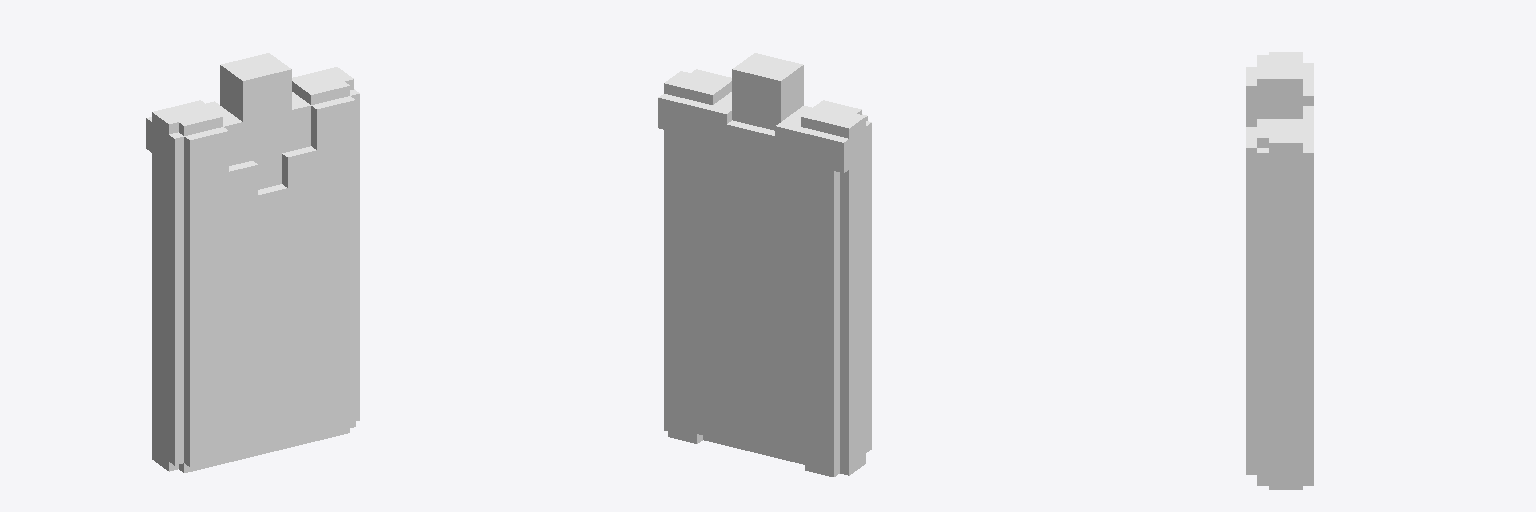
File: human0_chest.obj
3 views of the same model, side by side, from view 1: azimuth 30°, elevation 25°; view 2: azimuth 150°, elevation 25°; view 3: azimuth 270°, elevation 25° (orthographic).
Visible parts, largest first — view 1: human0_chest; view 2: human0_chest; view 3: human0_chest.
Boxes of the visible parts, box(x1,y1,x2,y2) form: human0_chest: box(146, 53, 359, 472); human0_chest: box(658, 53, 871, 476); human0_chest: box(1246, 52, 1313, 489).
Bounding box in the file's own units: 19 × 37 × 6.